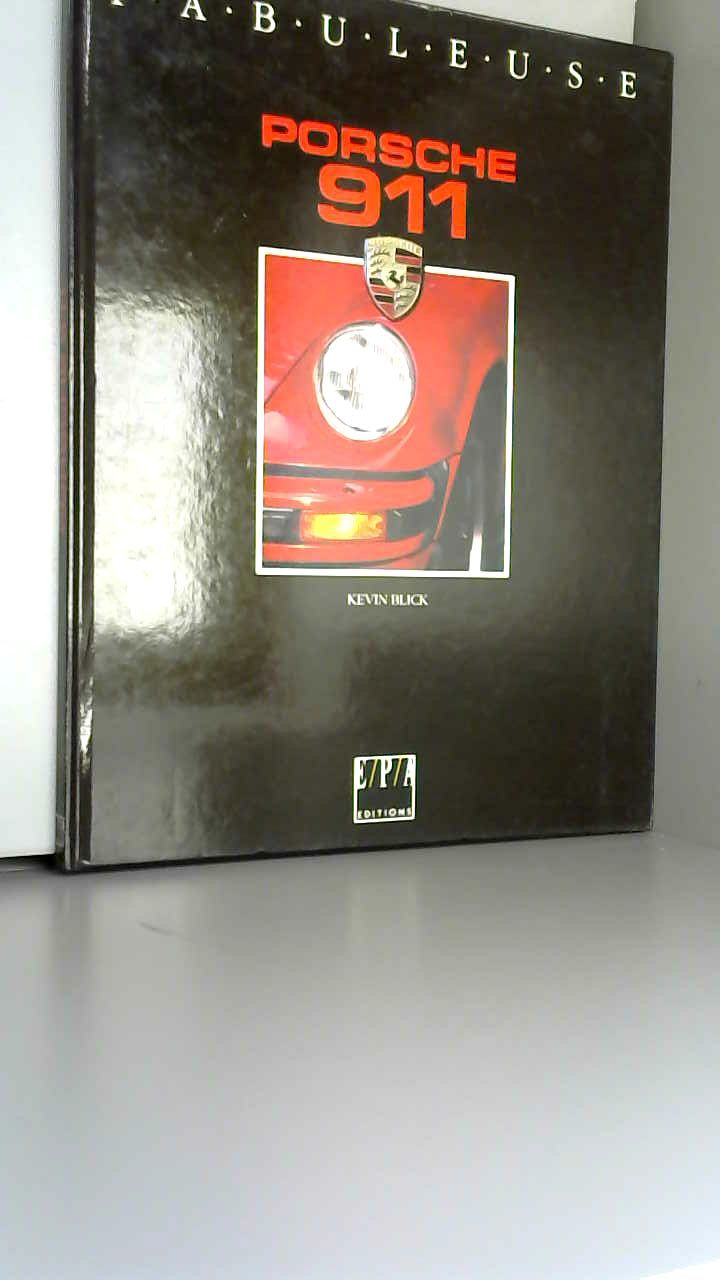book: (20, 0, 713, 903)
